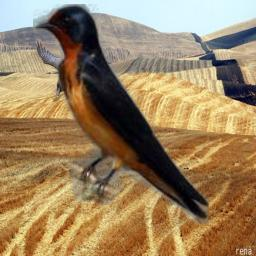Crow: (36, 39, 115, 127)
Swallow: (33, 4, 209, 224)
